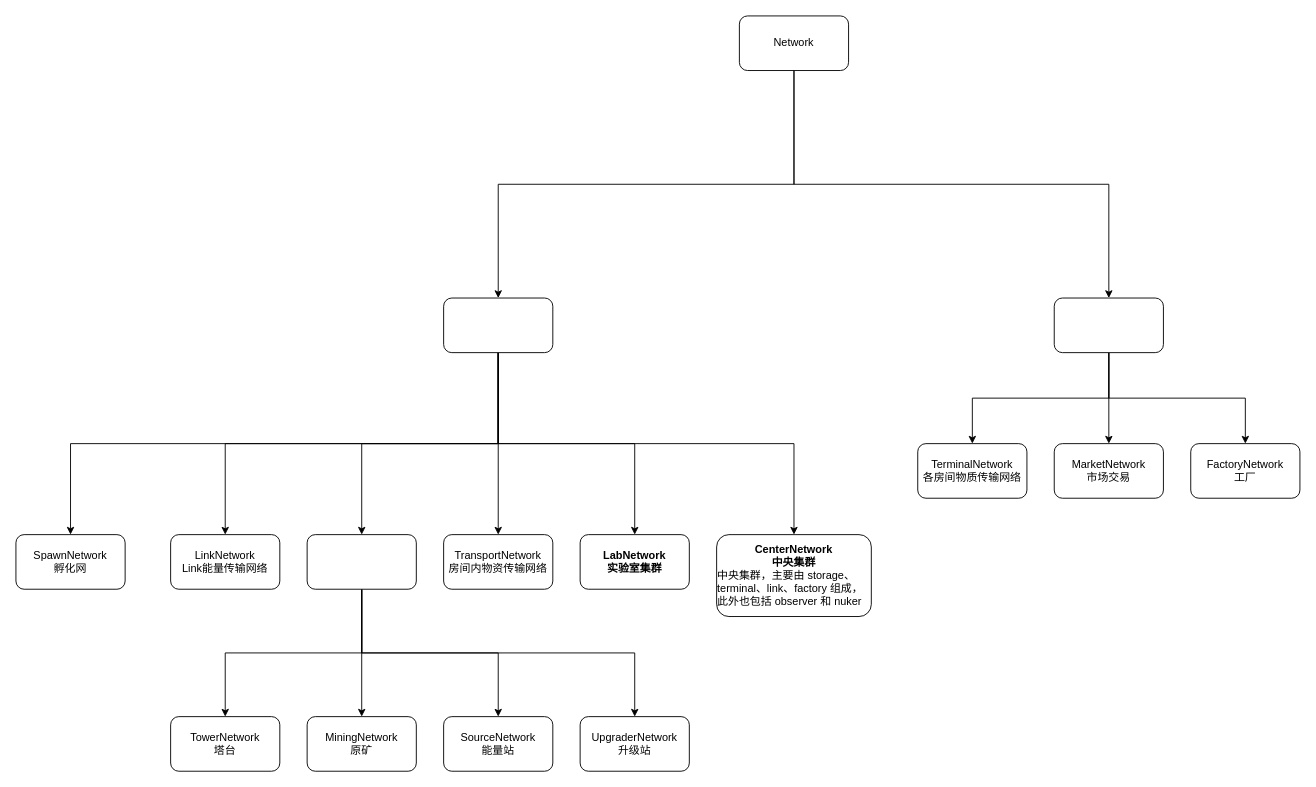
This 1316x787 diagram has some shape labels left out. Here are the shapes that lost their labels. From the top down, the centre of each, then its label:
At pixel 498 325: "RoomNetwork".
At pixel 1108 325: "GlobalNetwork".
At pixel 361 561: "BaseNetwork 基础网络设施".
